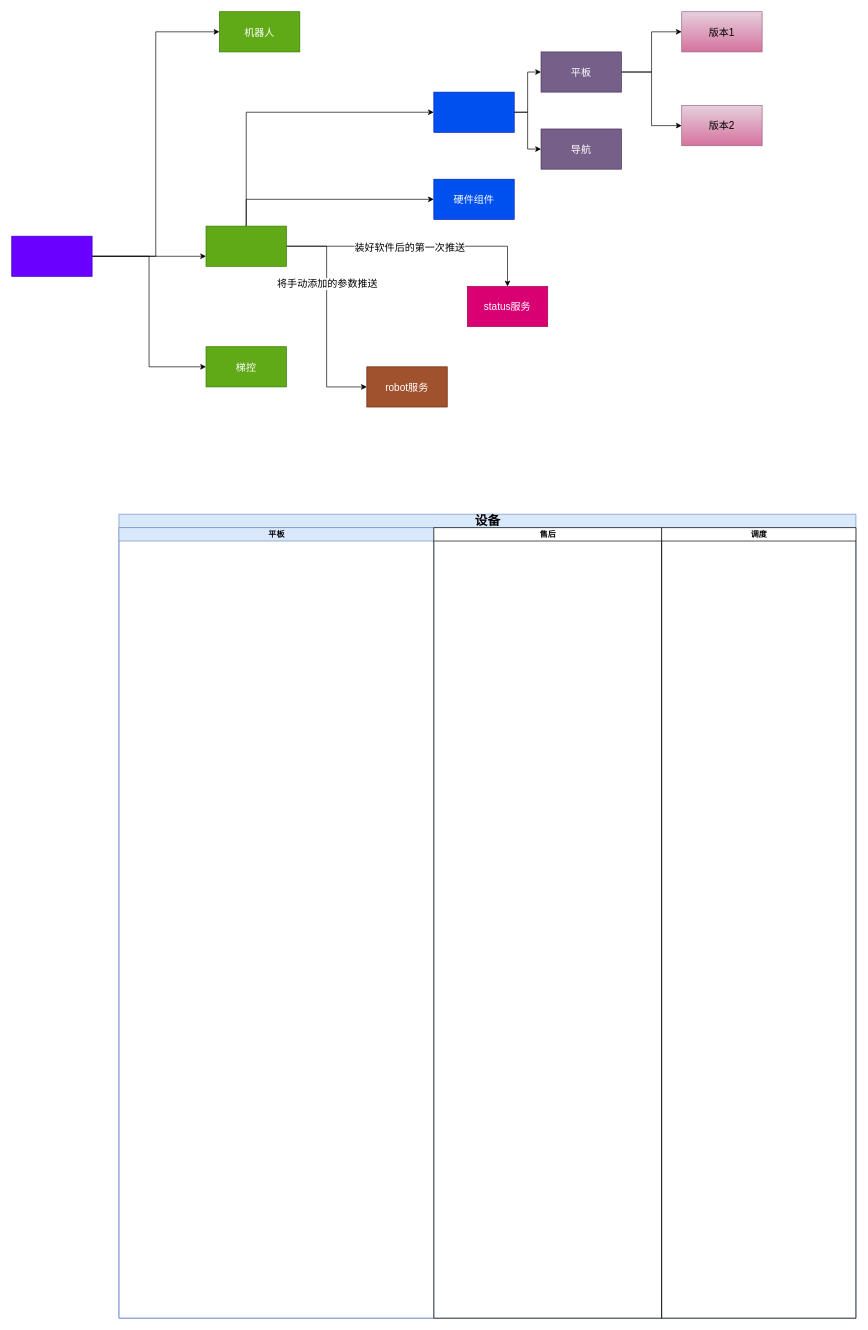
Image size: 868x1330. Some labels were removed from this diagram. Each missing label, with the centre of its shape:
工厂: point (51, 256)
柜子: point (245, 245)
软件组件: point (473, 111)
